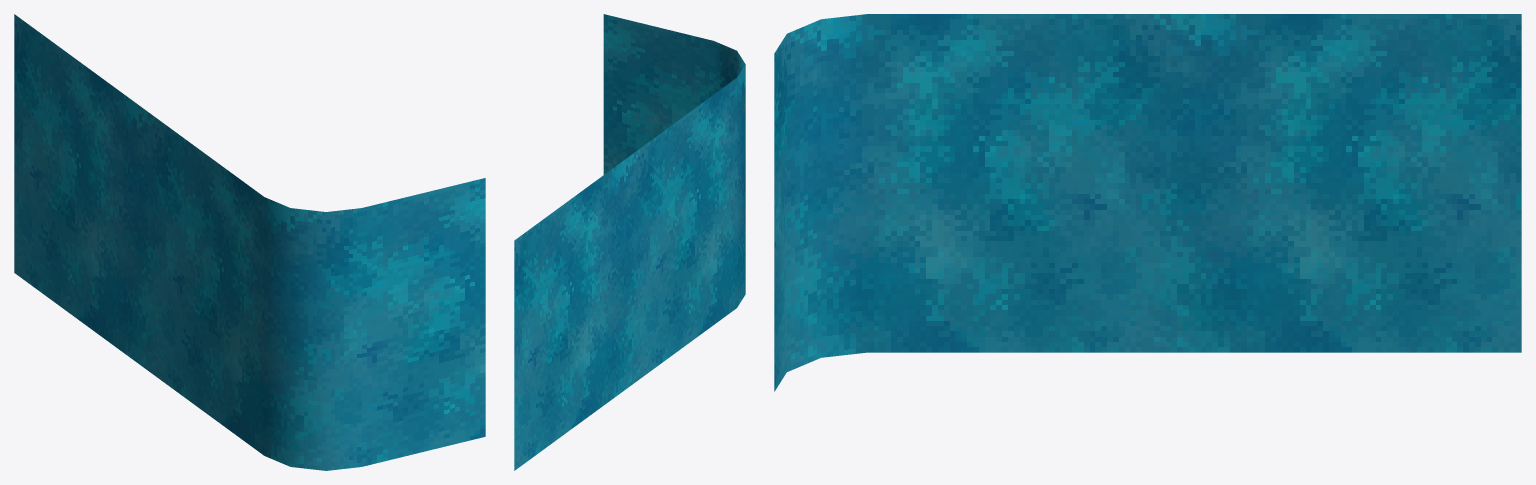
Rendered from Water_Waterfall_Mid_Right_1x1.fbx.
The picture shows the model from 3 angles, left to right: view 1: azimuth 30°, elevation 25°; view 2: azimuth 150°, elevation 25°; view 3: azimuth 270°, elevation 25°; orthographic projection. The views are drawn at different scales.
Parts seen in each view (by area): view 1: Water_Waterfall_Mid_Right_1x1; view 2: Water_Waterfall_Mid_Right_1x1; view 3: Water_Waterfall_Mid_Right_1x1.
Boxes of the visible parts, left/top/right/bottom form: Water_Waterfall_Mid_Right_1x1: left=14, top=14, right=485, bottom=470; Water_Waterfall_Mid_Right_1x1: left=514, top=14, right=745, bottom=470; Water_Waterfall_Mid_Right_1x1: left=774, top=14, right=1521, bottom=391.
Bounding box in the file's own units: 75 × 100 × 200.
